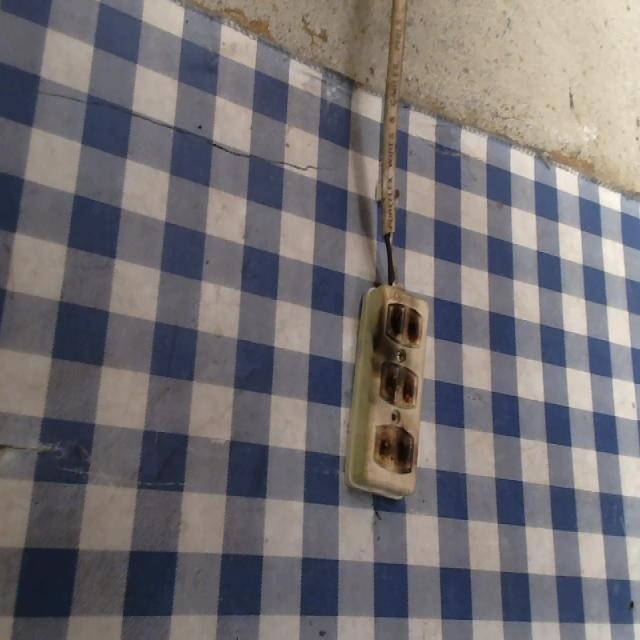-: (368, 420, 414, 475), (384, 298, 423, 351), (379, 360, 418, 409)
